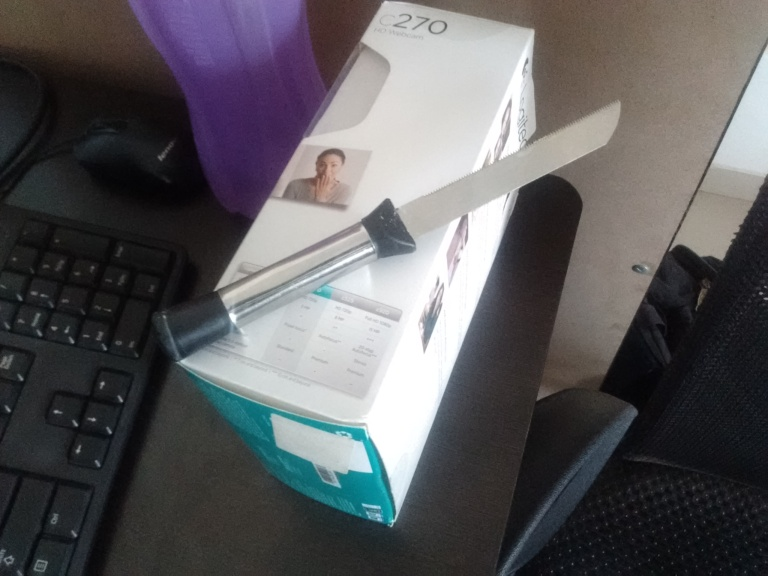knife: (148, 97, 625, 365)
